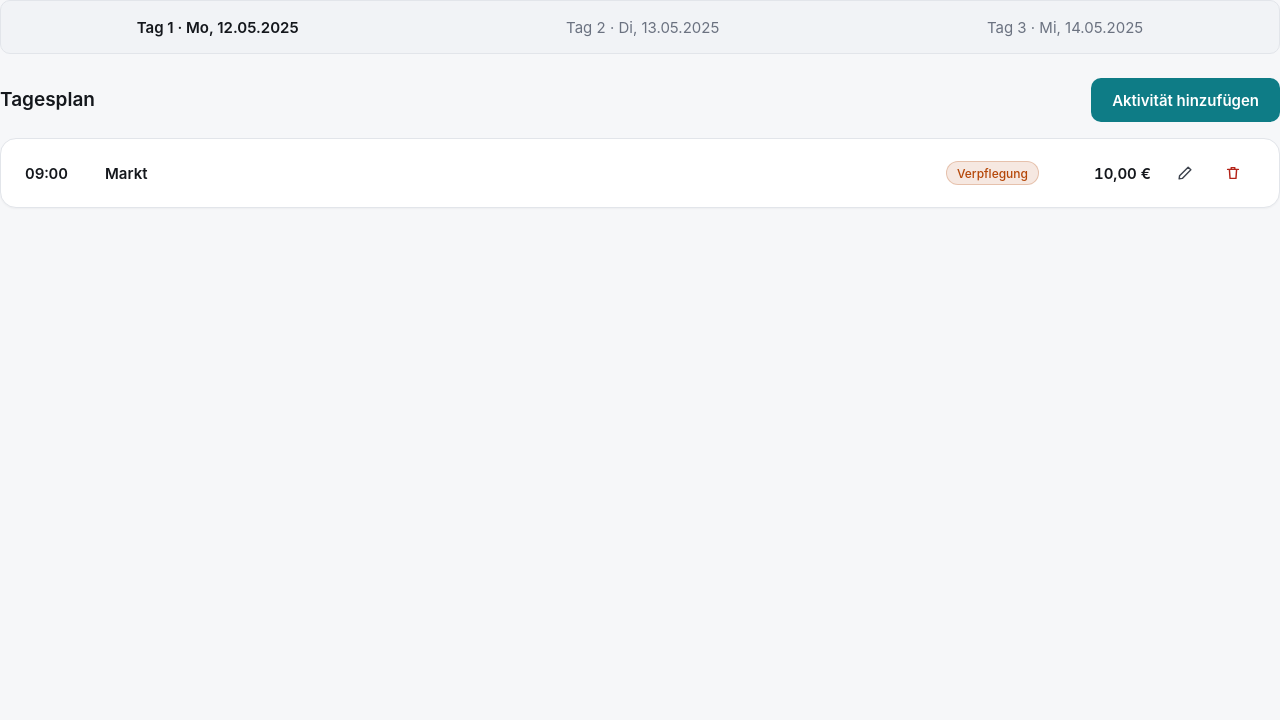
Test: TripDetailPage — day plan › deletes an activity only after confirmation
Click the button named "Löschen".
click(1233, 173)  # box [1211,151,1255,195]
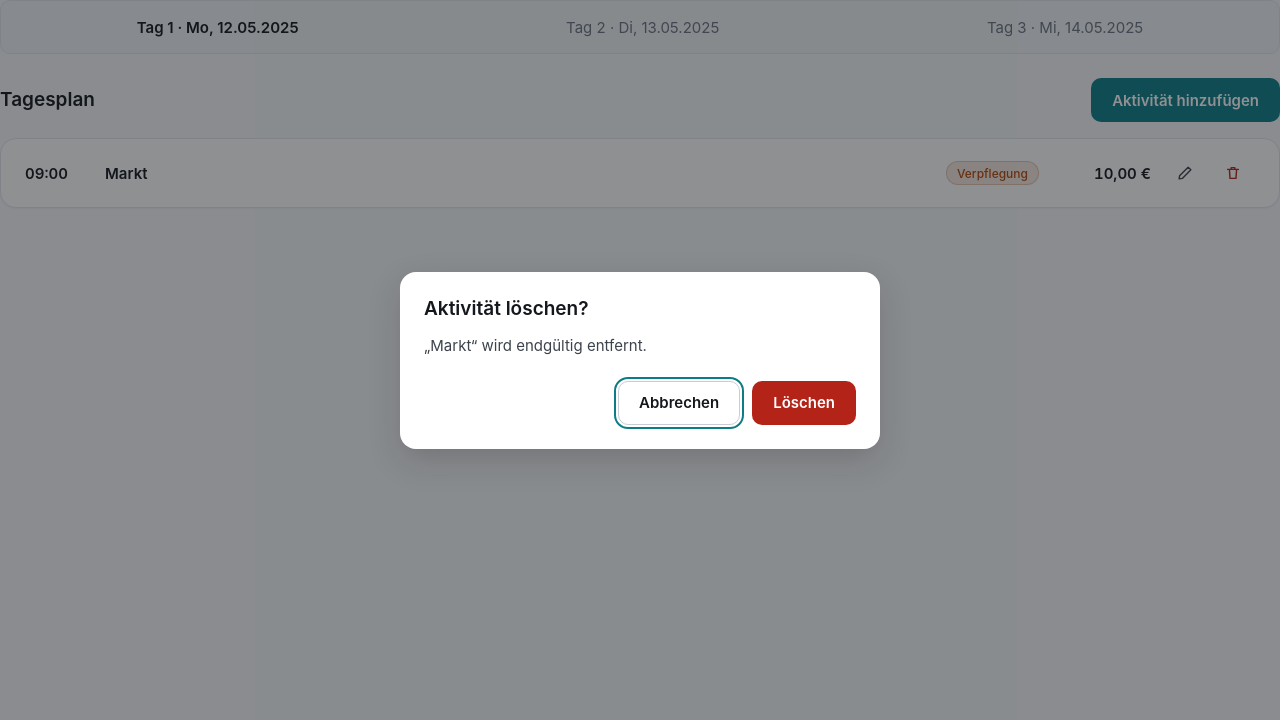
Check: the text "Markt" is shown, box [105,164,148,182]
Check: the dialog is shown, box [400,272,880,448]
Click the button "Löschen".
click(804, 402)  # box [752,380,856,424]
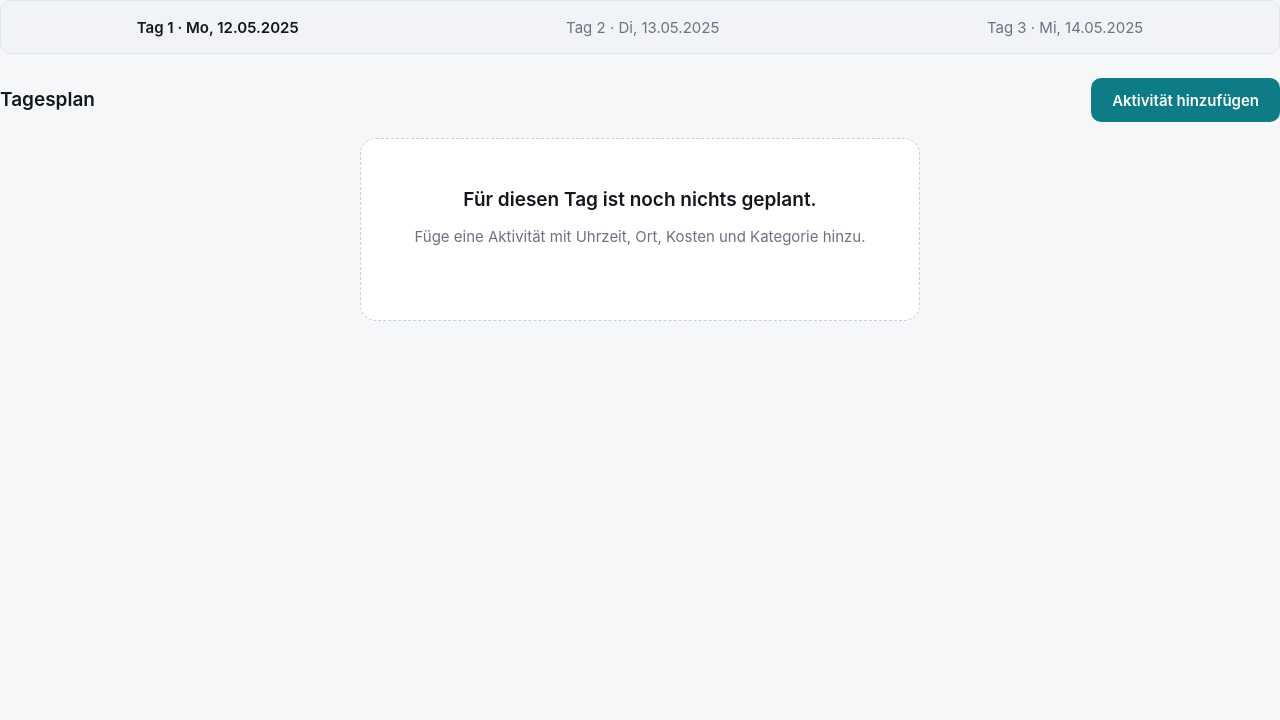
Check: the text "Markt" is gone
Check: the heading "Für diesen Tag ist noch nichts geplant." is shown, box [463,188,817,211]
